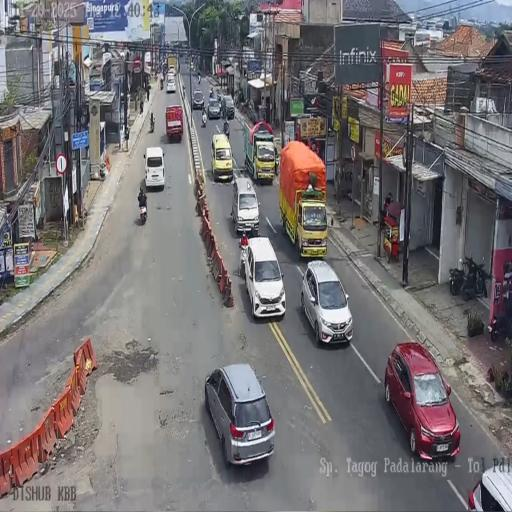car: (383, 342, 460, 459), (204, 362, 276, 467), (302, 259, 354, 346), (241, 236, 286, 320), (467, 460, 512, 510), (231, 175, 259, 236), (210, 132, 233, 182), (144, 147, 165, 190), (220, 94, 234, 119), (208, 95, 222, 119), (192, 89, 204, 110), (166, 75, 175, 93), (169, 65, 176, 76), (190, 62, 195, 72)
motorcycle: (450, 252, 487, 299), (138, 198, 148, 225), (223, 116, 230, 138), (149, 116, 155, 132), (201, 111, 206, 127), (160, 78, 164, 89), (197, 74, 201, 83)
truck: (279, 141, 328, 256), (242, 118, 277, 186), (165, 104, 184, 141)
